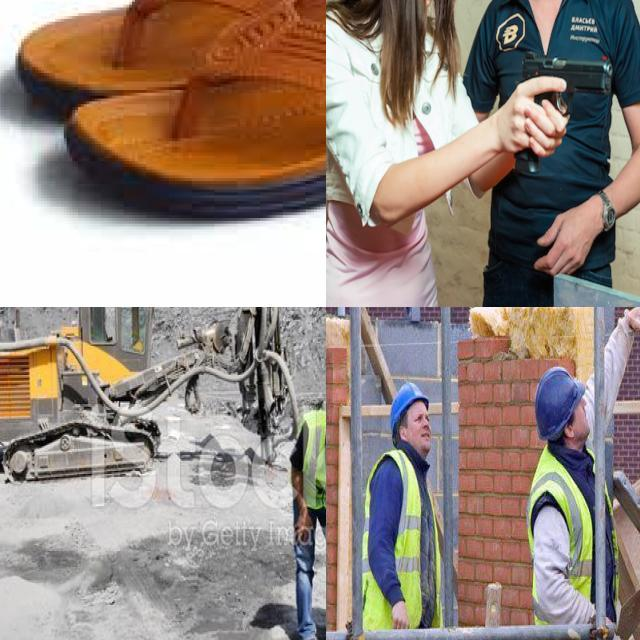Sandals: (0, 0, 326, 249)
face_nomask: (406, 400, 438, 454)
hand_noglove: (390, 602, 409, 640), (618, 307, 640, 338)
head_helmet: (535, 364, 586, 445), (390, 382, 429, 437)
person: (465, 0, 640, 307), (326, 0, 474, 307), (527, 337, 624, 640), (363, 377, 444, 640), (297, 398, 326, 640)
shoes: (296, 627, 320, 640)
vest: (360, 449, 443, 640), (525, 443, 592, 640), (302, 417, 326, 511)
